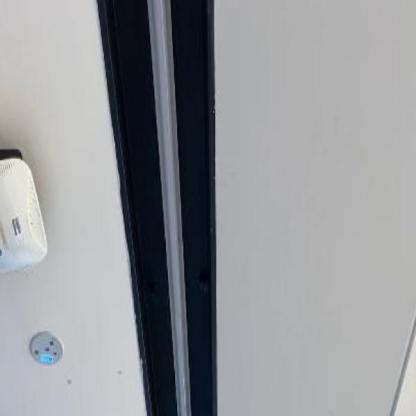light_off: (130, 0, 204, 415)
